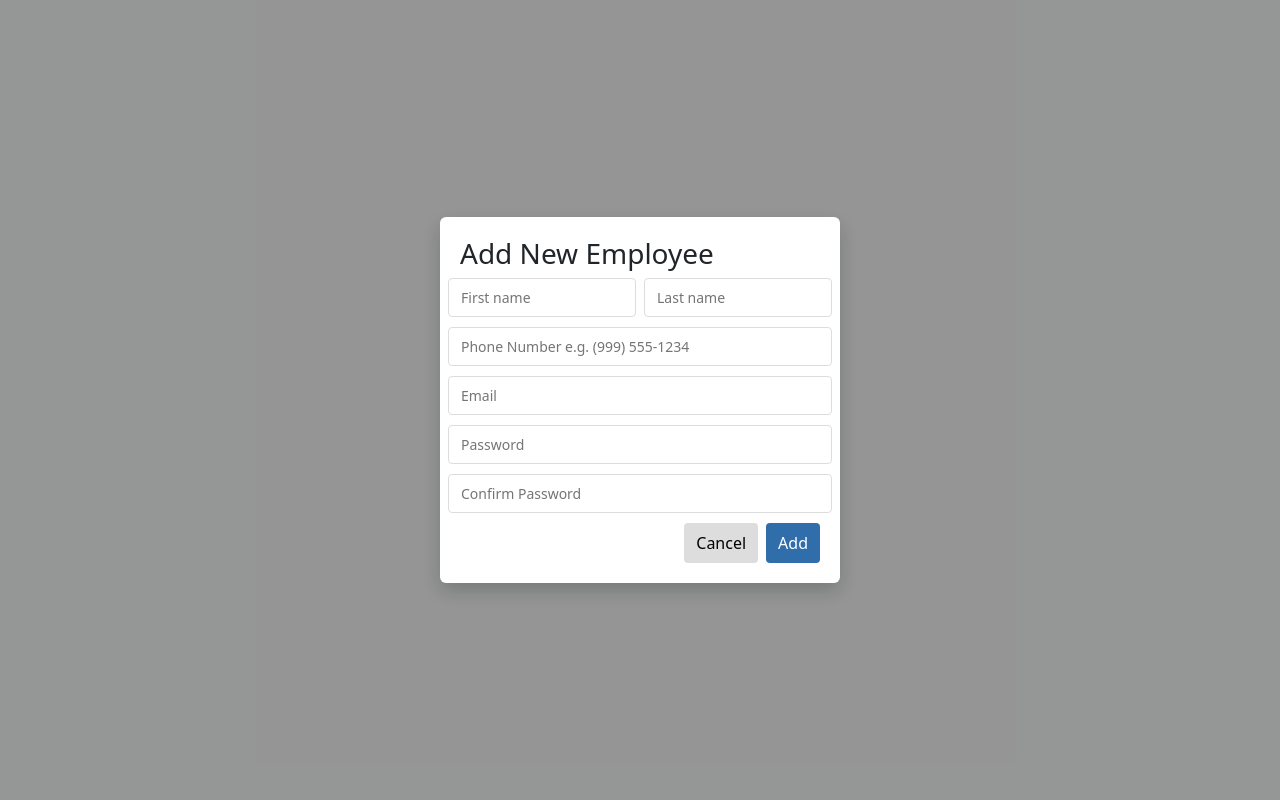
Test: AddEmployeeForm › shows error for invalid email
Type "John" into the field with placeholder "First name" at (542, 298), box x1=448 y1=278 x2=636 y2=317
Type "Doe" into the field with placeholder "Last name" at (738, 298), box x1=644 y1=278 x2=832 y2=317
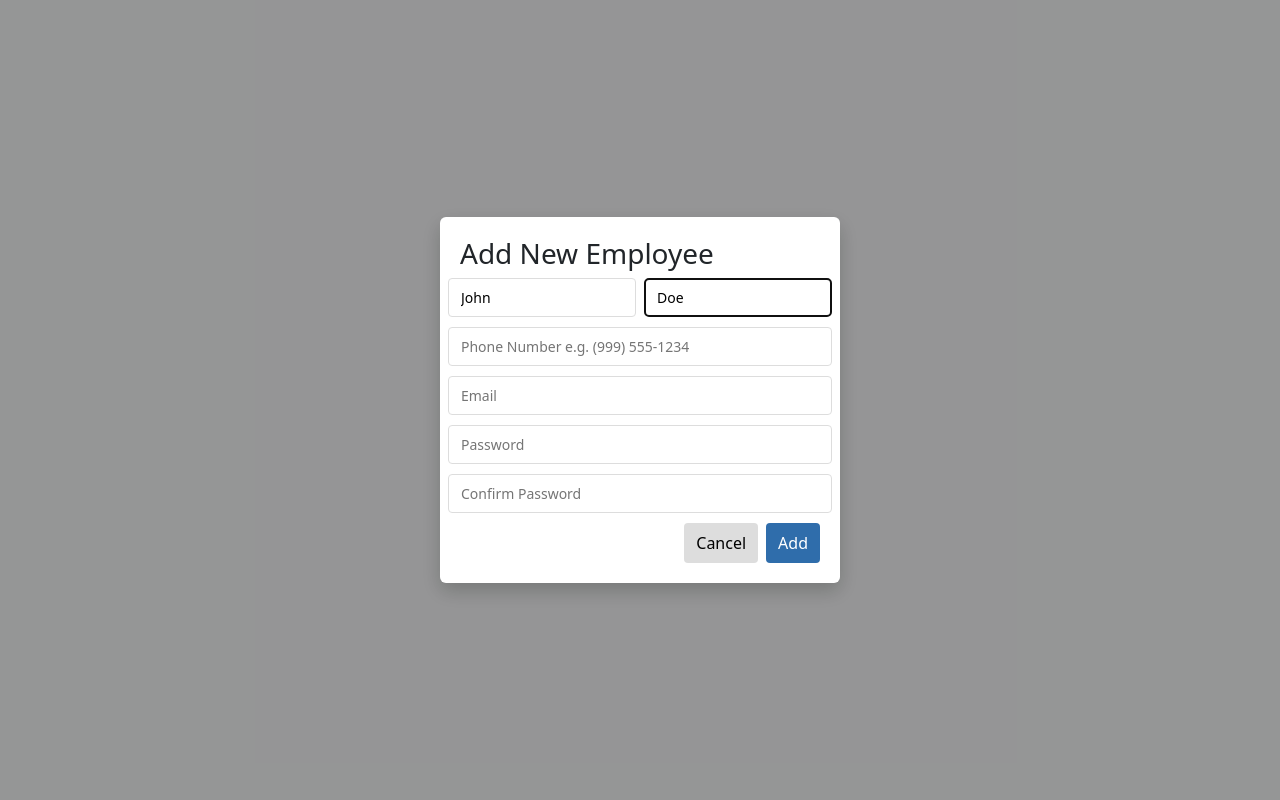
Type "1234567890" into the field with placeholder "Phone Number e.g. (999) 555-1234" at (640, 347), box x1=448 y1=327 x2=832 y2=366
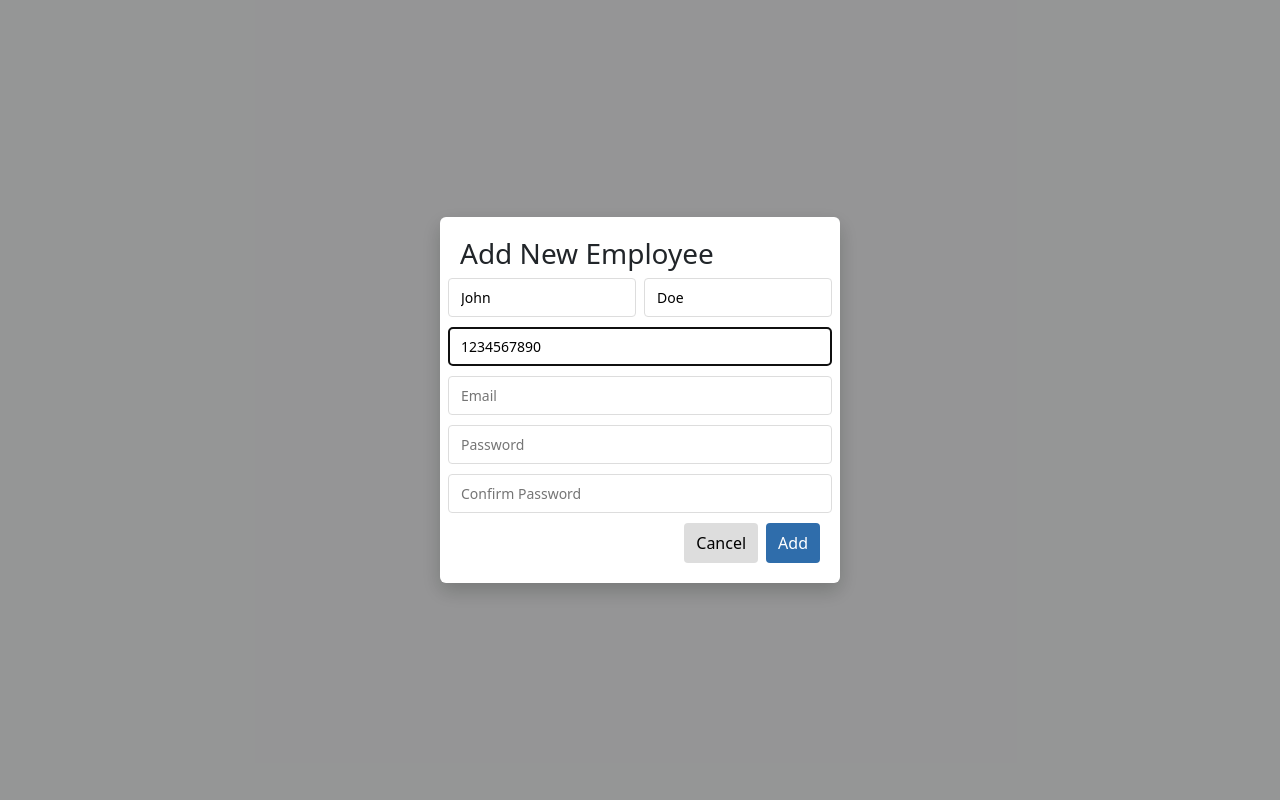
Type "invalid-email" into the field with placeholder "Email" at (640, 396), box x1=448 y1=376 x2=832 y2=415
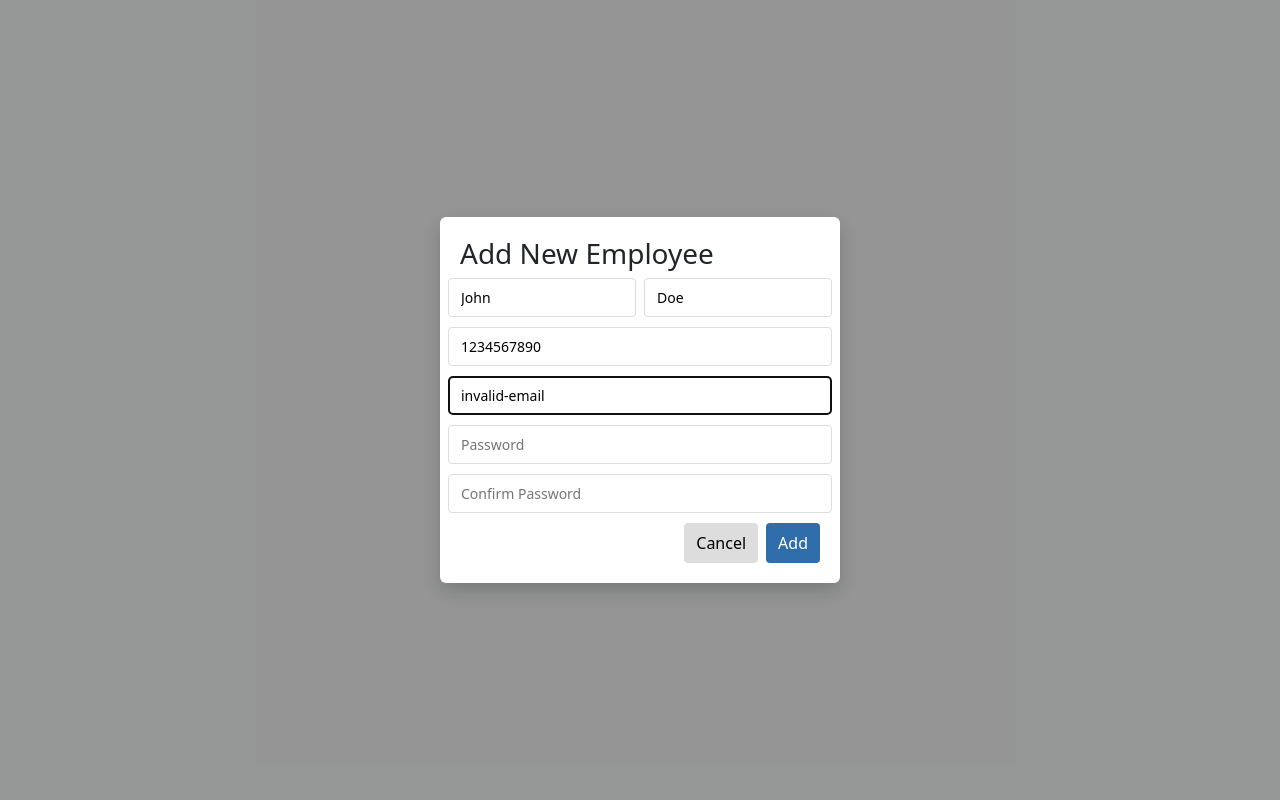
Type "Password1" into the password field with placeholder "Password" at (640, 445), box x1=448 y1=425 x2=832 y2=464
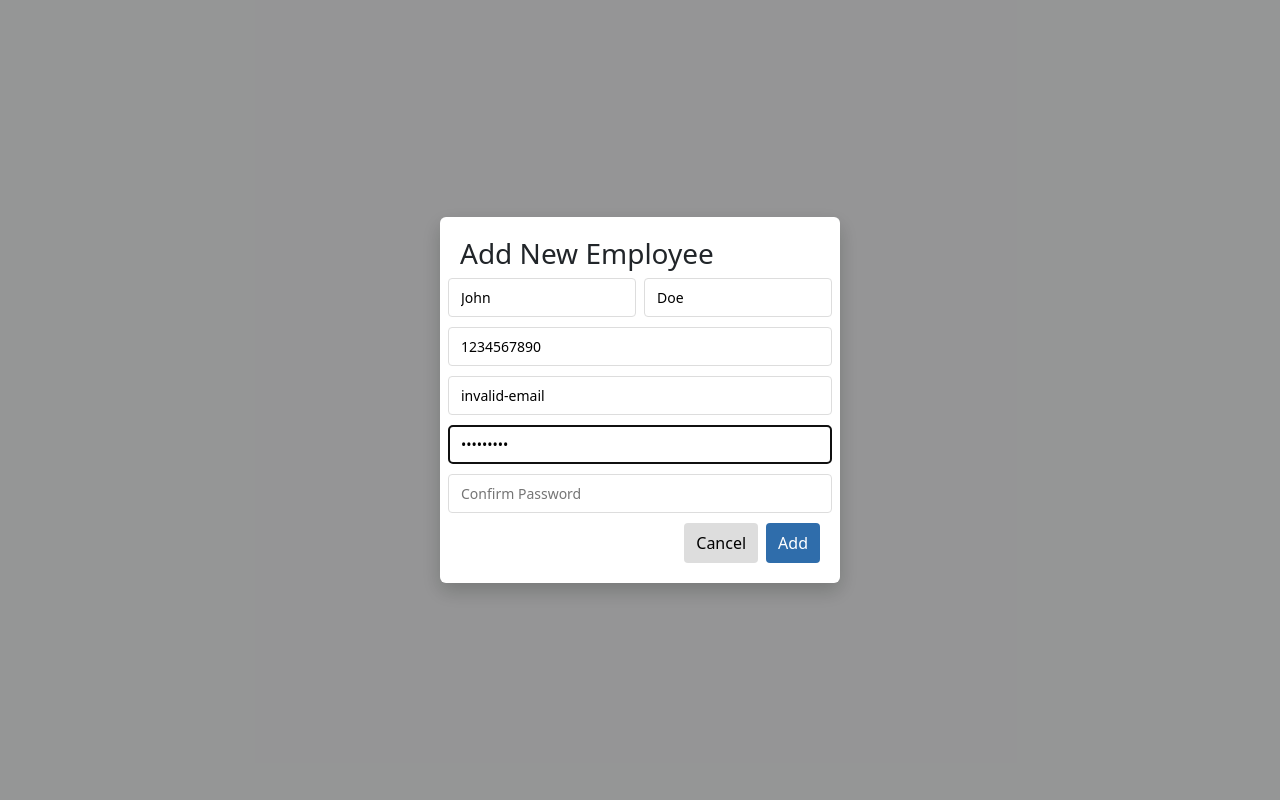
Type "Password1" into the password field with placeholder "Confirm Password" at (640, 494), box x1=448 y1=474 x2=832 y2=513
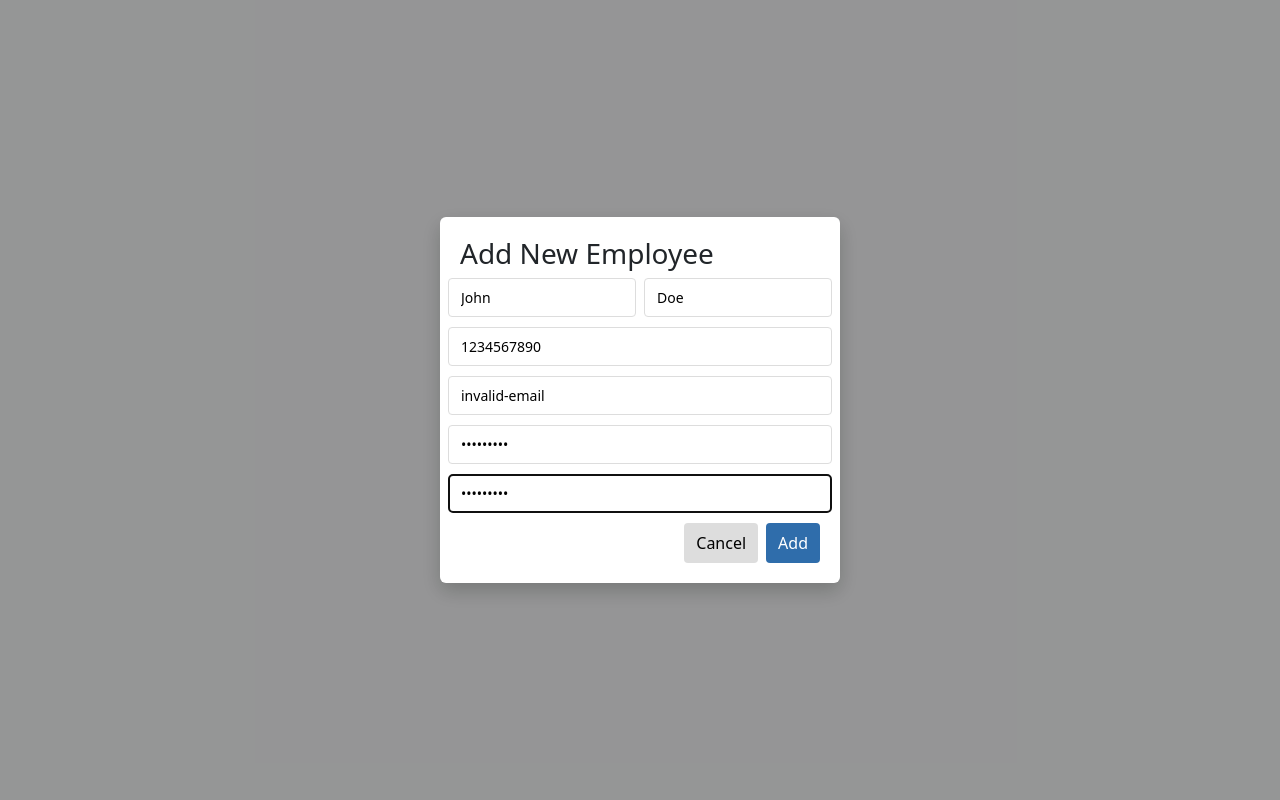
Click the button "Add" at (793, 543), box x1=766 y1=523 x2=820 y2=563
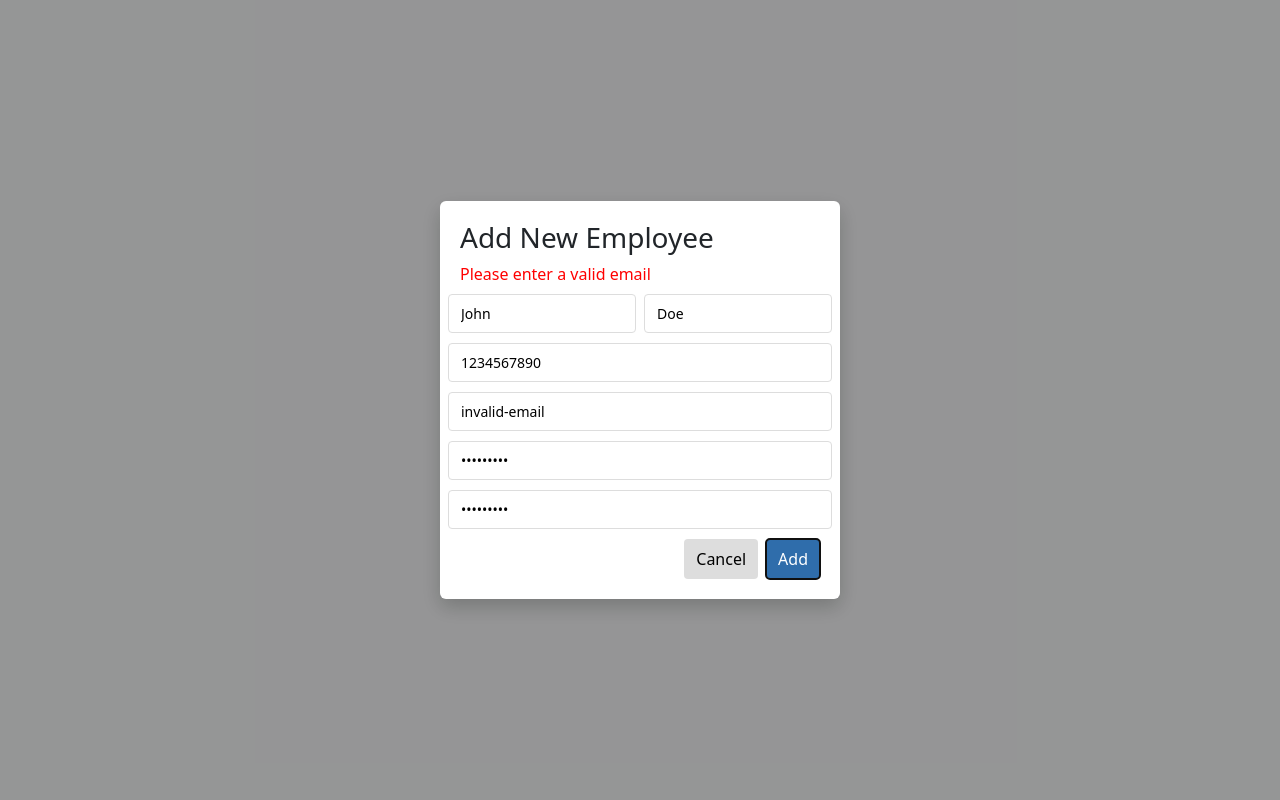
Expected: the text "Please enter a valid email" is shown, x1=460 y1=263 x2=651 y2=285
